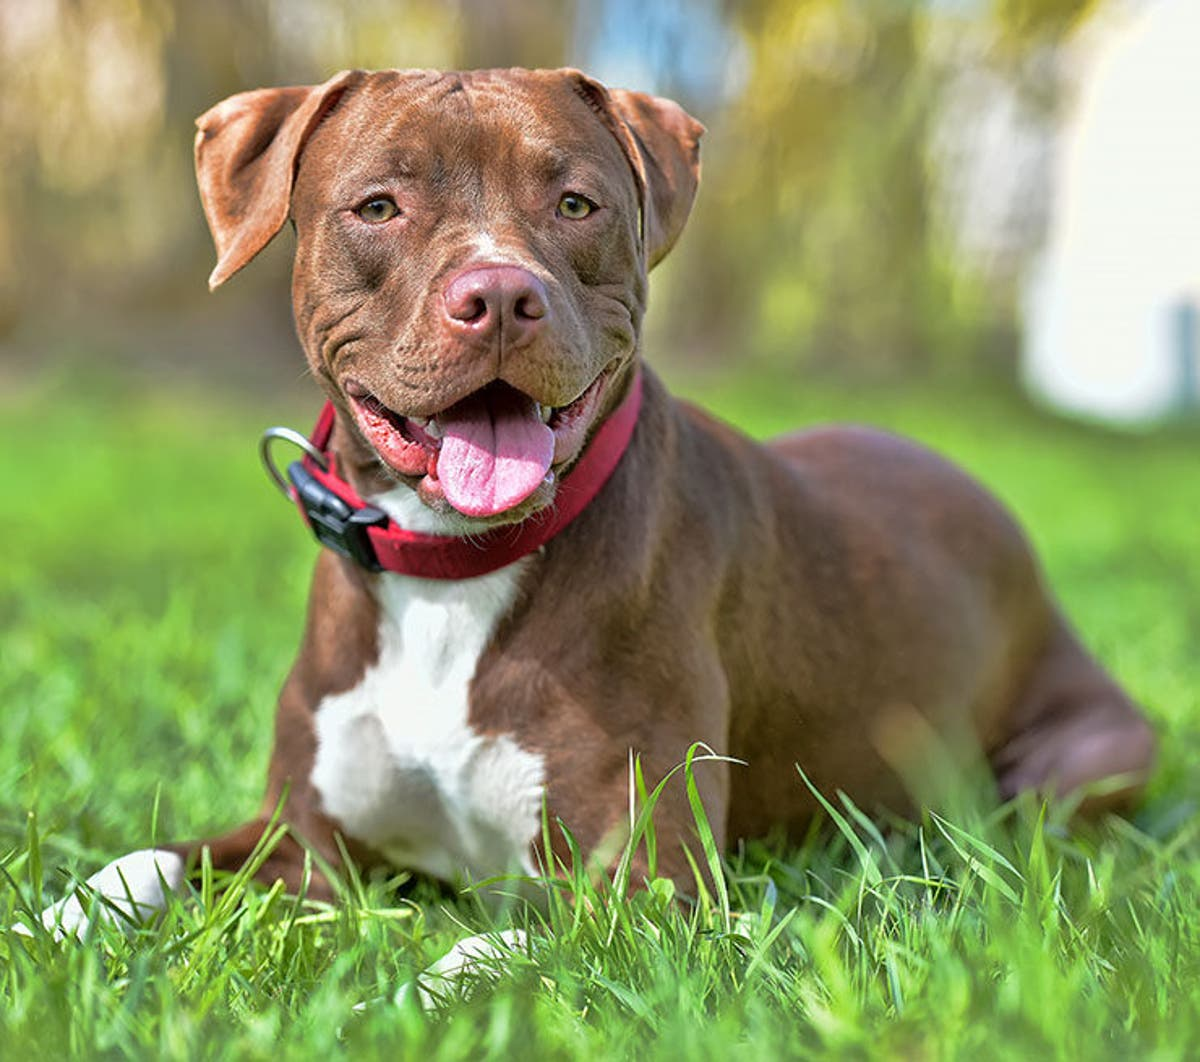Perro Pitbull: (100, 41, 945, 850)
